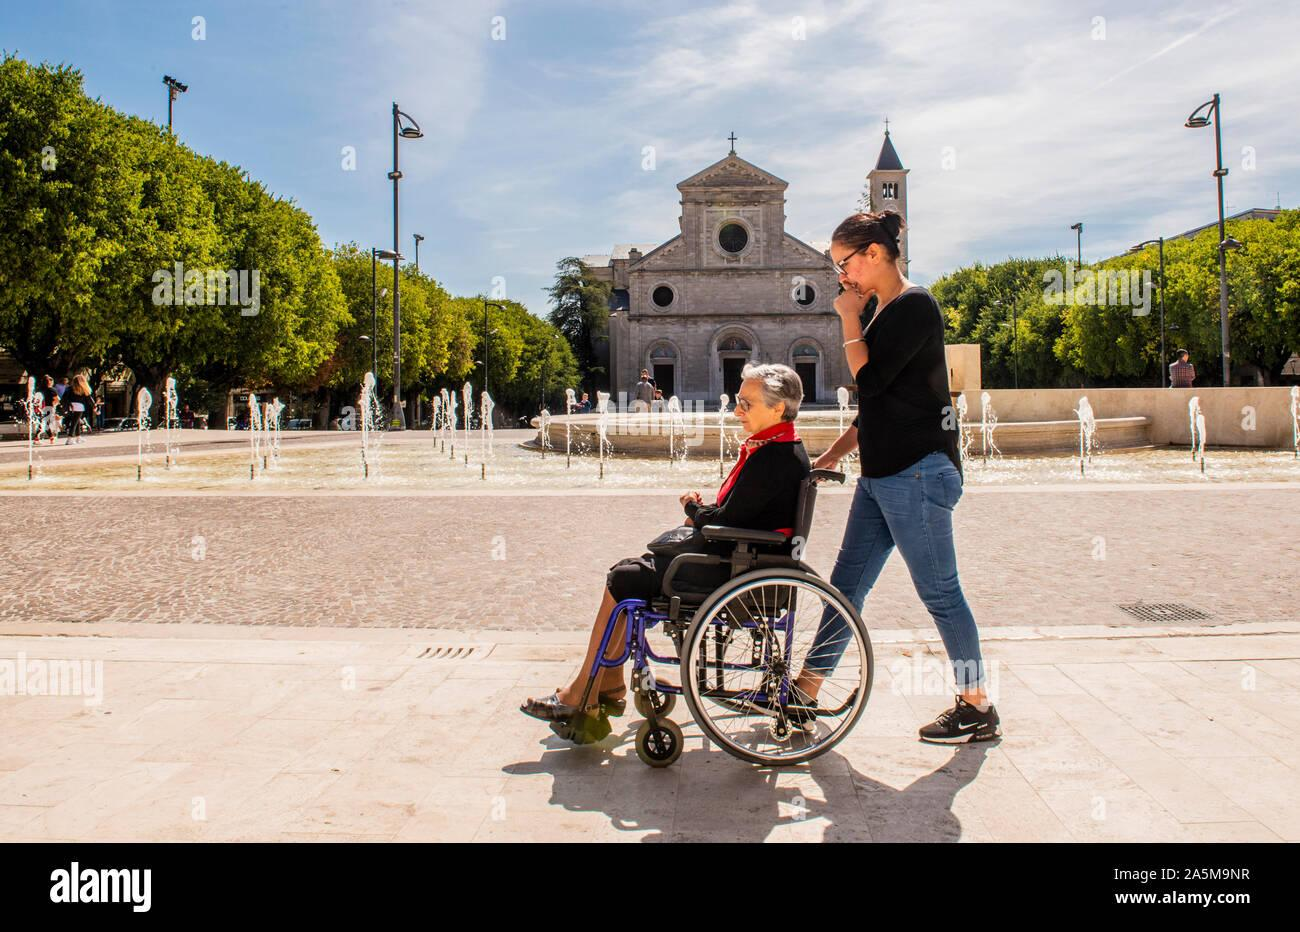push_wheelchair: (746, 209, 1003, 743)
wheelchair: (519, 363, 874, 769)
